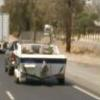Boat: (3, 37, 70, 88)
